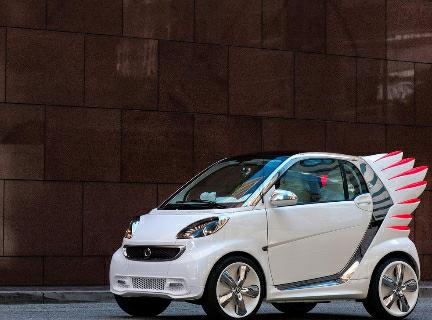smart-forjeremy: (95, 146, 428, 320)
